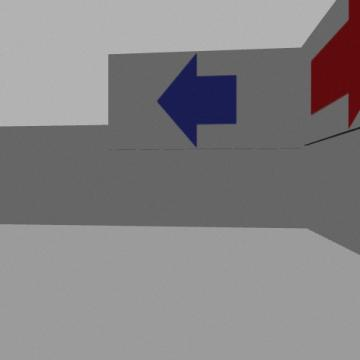blue_left: (158, 54, 236, 146)
